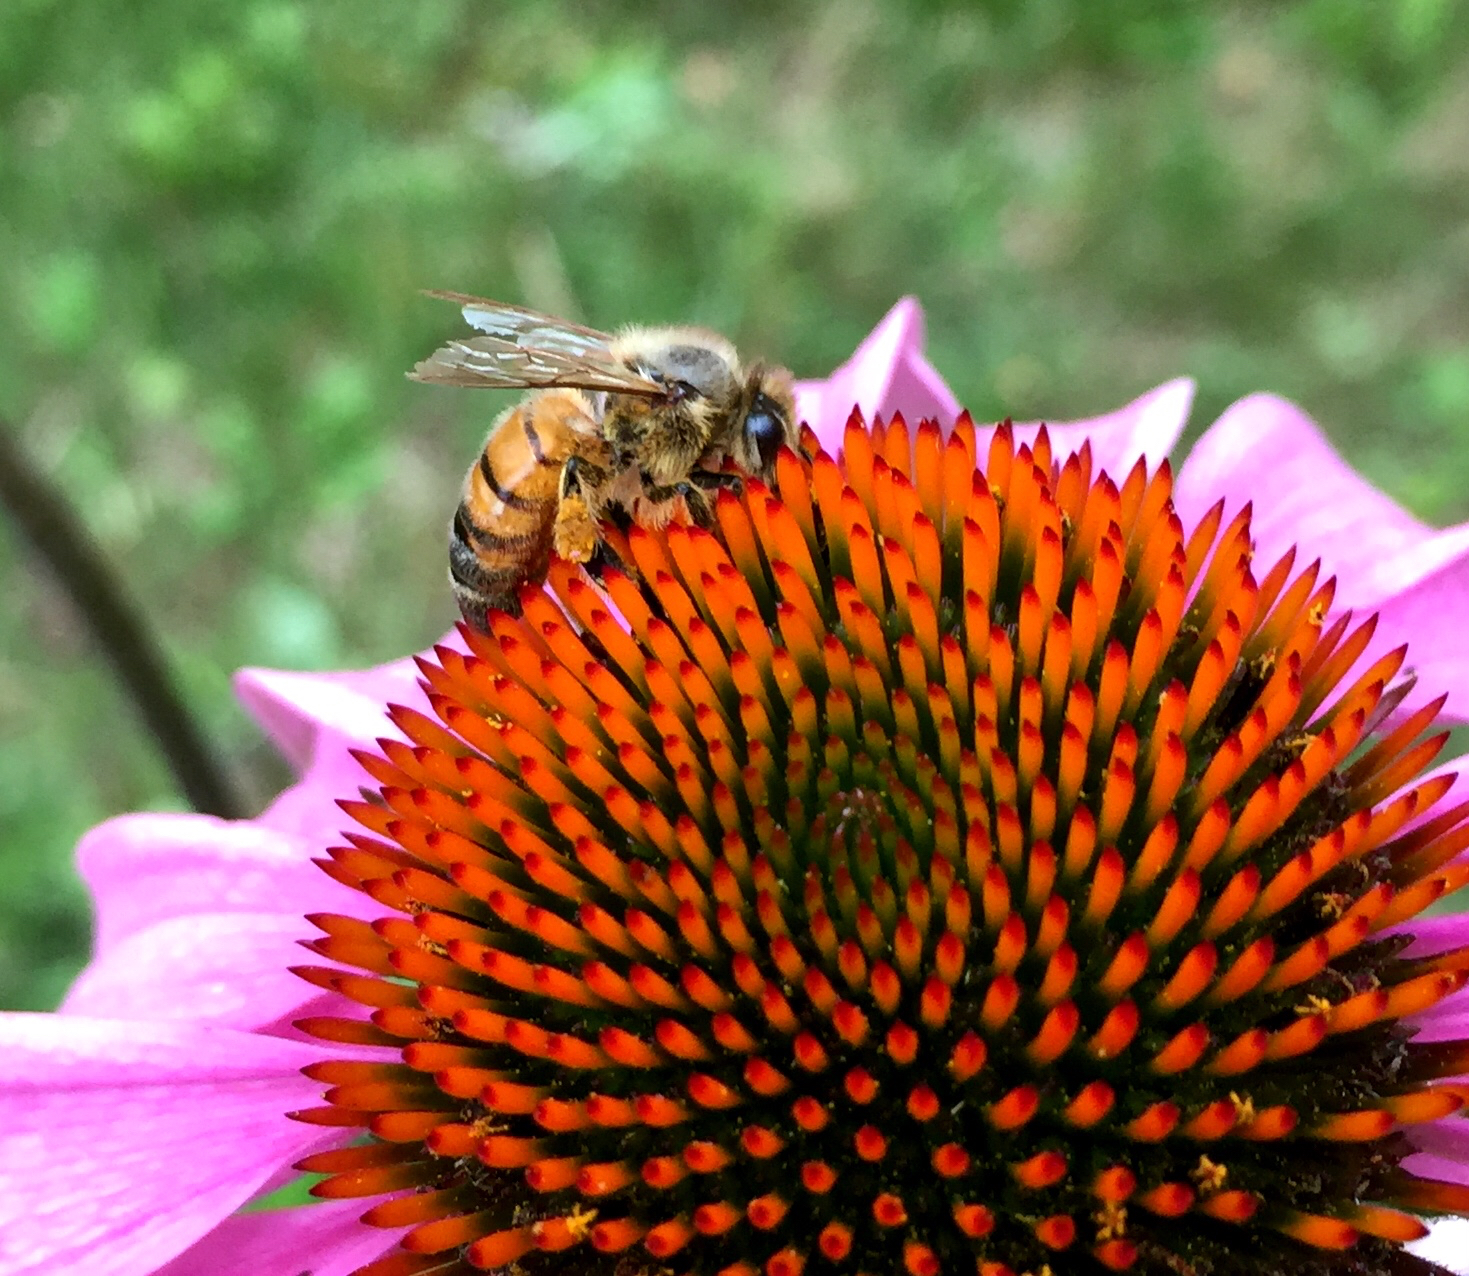bee: (447, 307, 778, 607)
